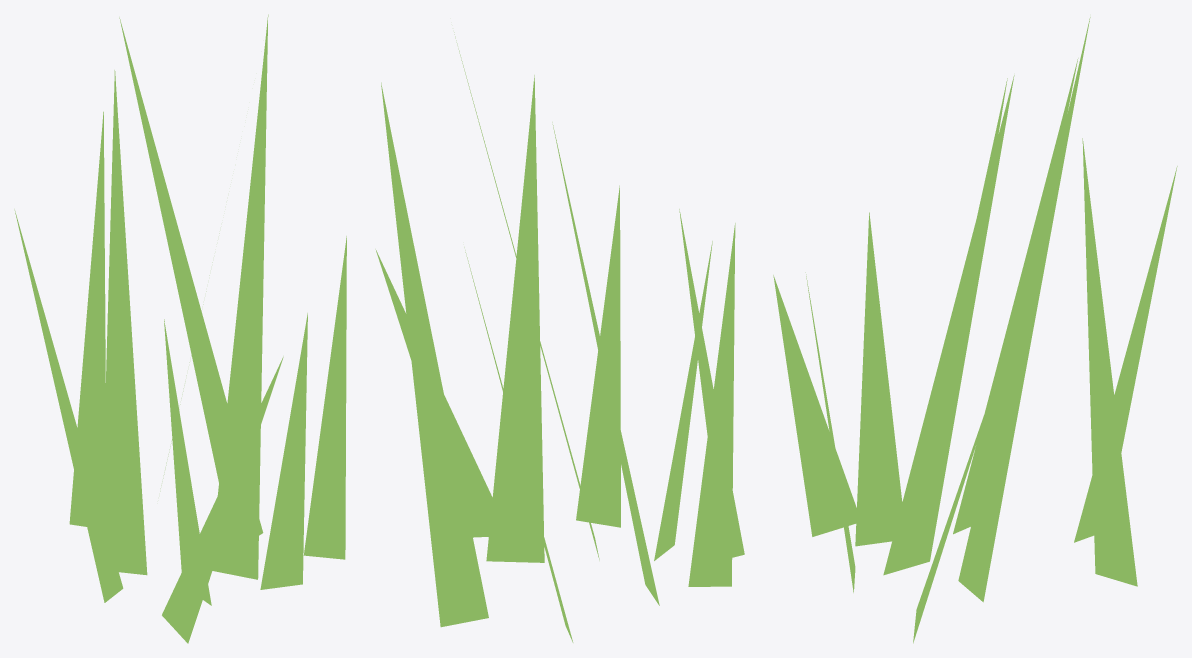
File: Grass_d_TwoS_05.fbx
3 renders of one model, left to right at view 1: azimuth 30°, elevation 25°; view 2: azimuth 150°, elevation 25°; view 3: azimuth 270°, elevation 25°, orthographic. The views are drawn at different scales.
Parts seen in each view (by area): view 1: Grass_d_TwoS_05; view 2: Grass_d_TwoS_05; view 3: Grass_d_TwoS_05.
Boxes of the visible parts, x1=… form: Grass_d_TwoS_05: x1=14, y1=14, x2=346, y2=643; Grass_d_TwoS_05: x1=375, y1=32, x2=744, y2=642; Grass_d_TwoS_05: x1=773, y1=17, x2=1177, y2=643.
Size of the model in its own units: 0.3188 by 0.4782 by 0.3157.
